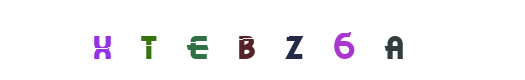6: (226, 0, 306, 80)
A: (306, 0, 386, 80)
B: (215, 0, 295, 80)
E: (206, 0, 286, 80)
T: (194, 0, 274, 80)
X: (141, 0, 221, 80)
Z: (222, 0, 302, 80)
